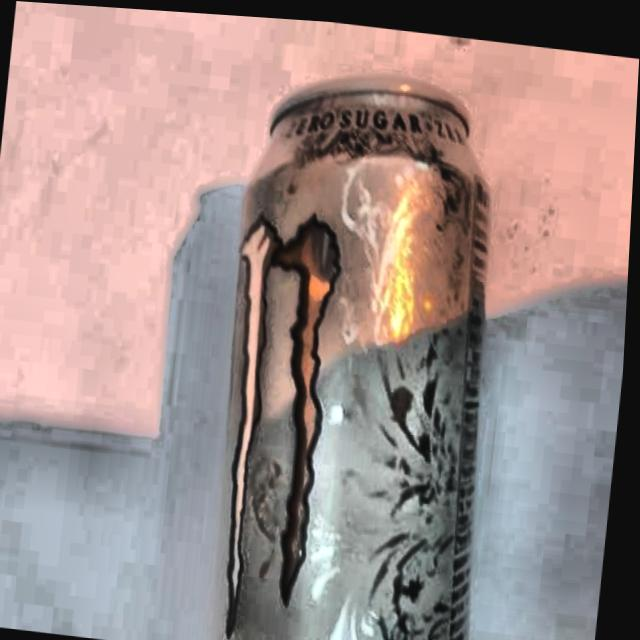Cans: (192, 47, 539, 640)
